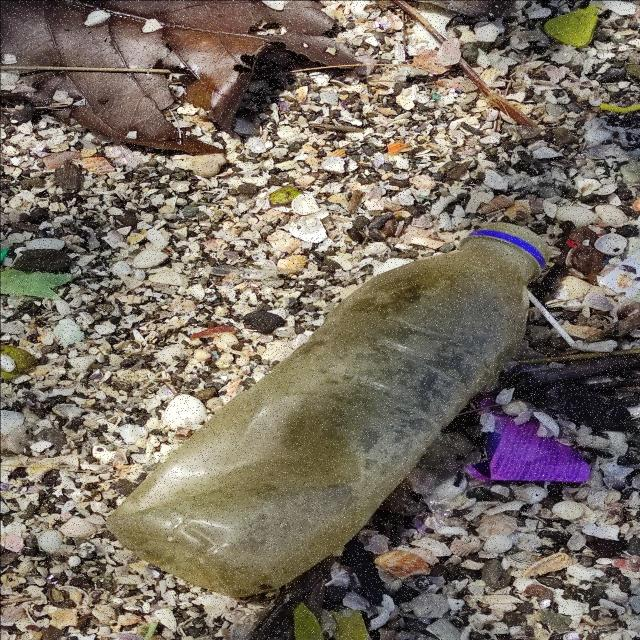plastic_waste: (104, 222, 549, 597)
